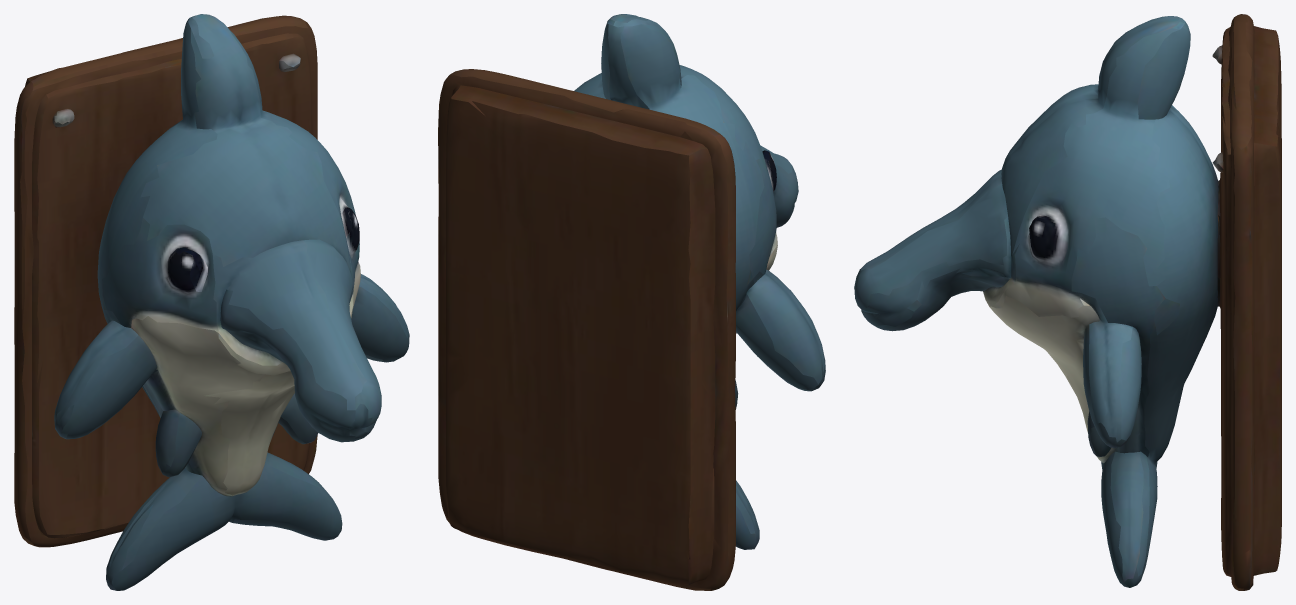
Rendered from x-hangingfish.glb.
The picture shows the model from 3 angles, left to right: view 1: azimuth 30°, elevation 25°; view 2: azimuth 150°, elevation 25°; view 3: azimuth 270°, elevation 25°; orthographic projection. The views are drawn at different scales.
Visible parts, largest first — view 1: geometry_0; view 2: geometry_0; view 3: geometry_0.
Part boxes in pixels (x1,y1,x2,y2): geometry_0: (14,14,409,590); geometry_0: (438,14,825,590); geometry_0: (854,14,1281,590).
Bounding box in the file's own units: 0.35 × 0.5062 × 0.3798.
1 material, 1 textured.
